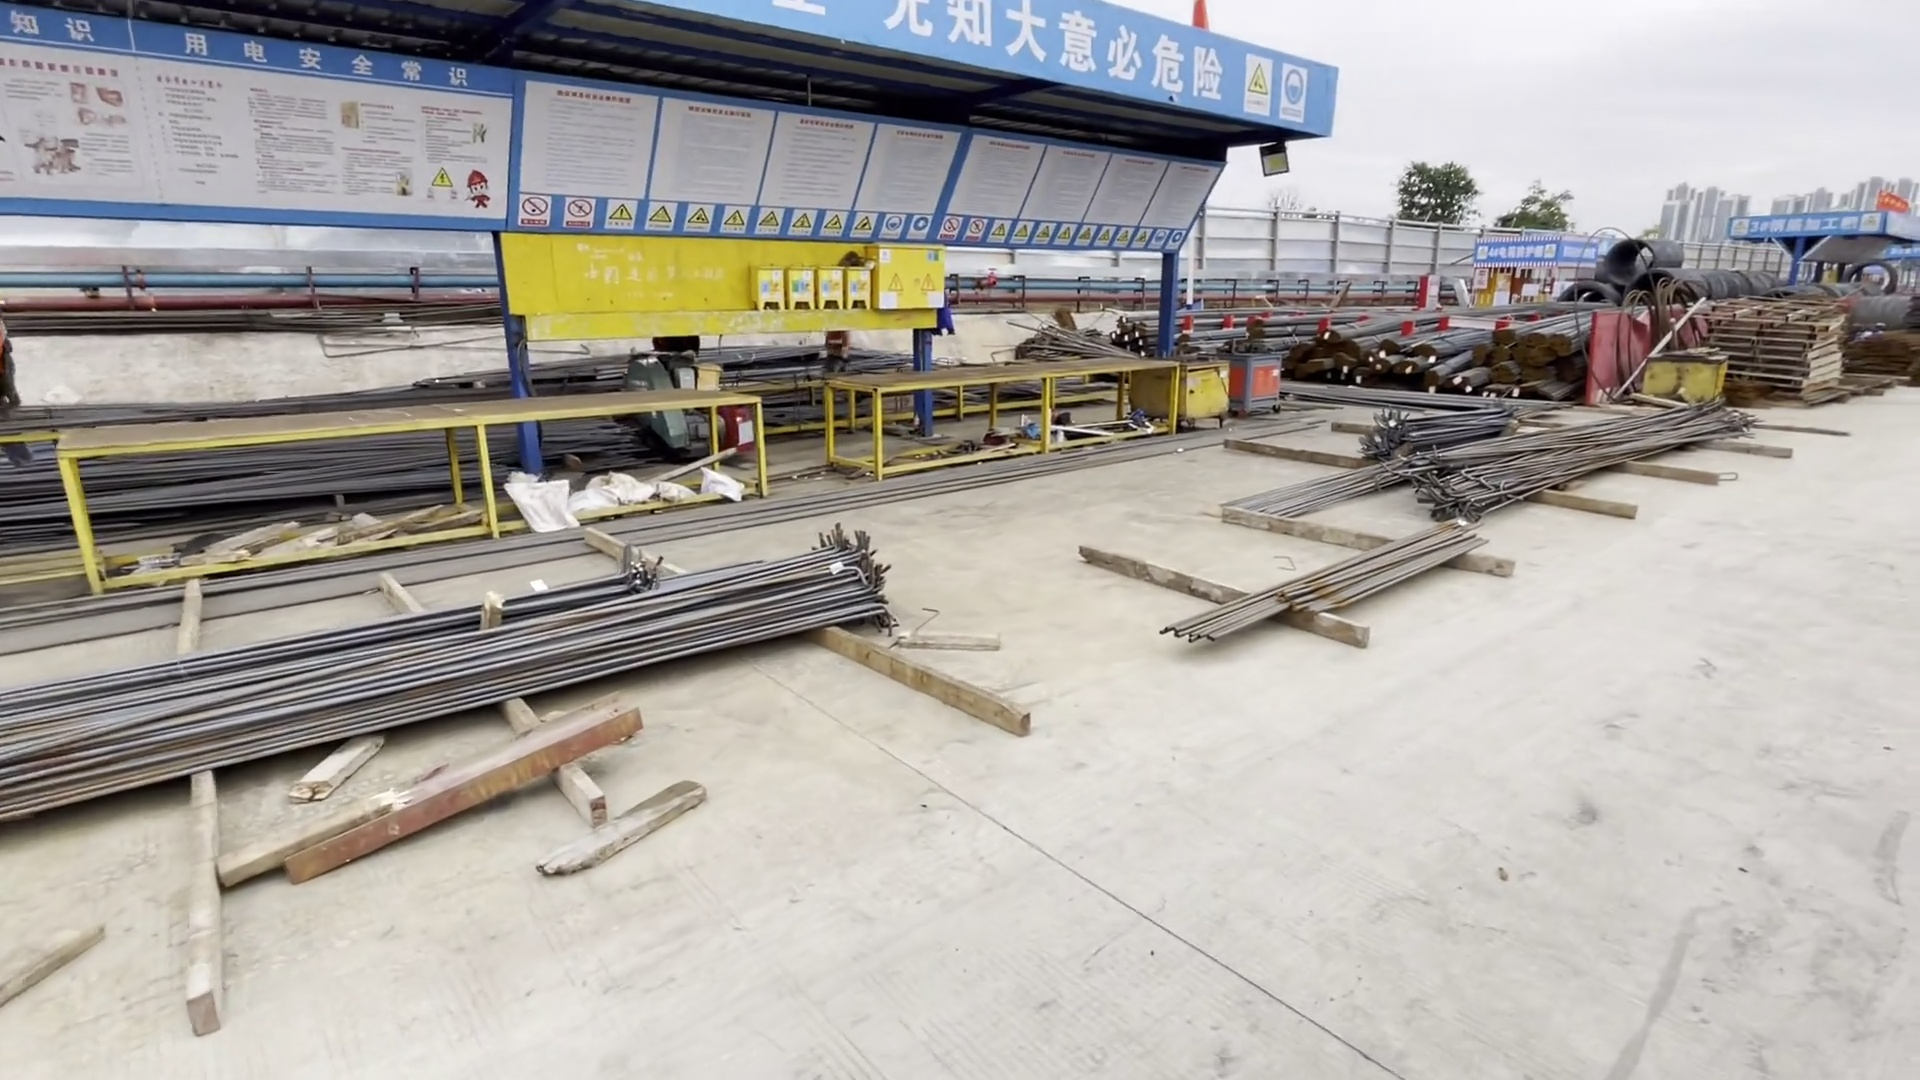ebox: (738, 243, 951, 313)
rebar: (1, 524, 898, 818), (1145, 400, 1745, 647), (1114, 305, 1589, 413)
slogan: (1, 1, 1346, 258)
